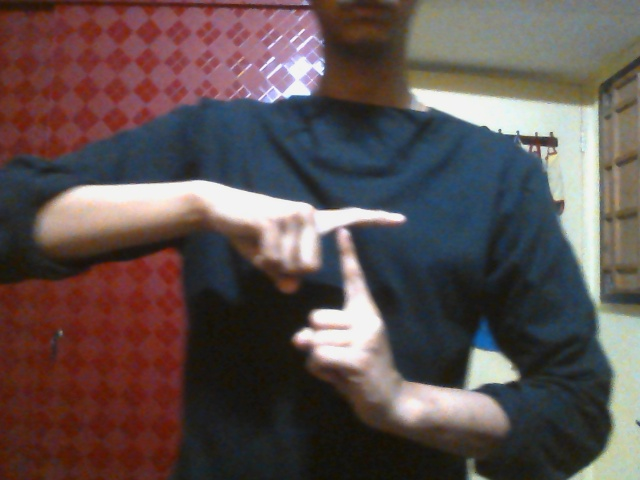T: (236, 195, 413, 418)
